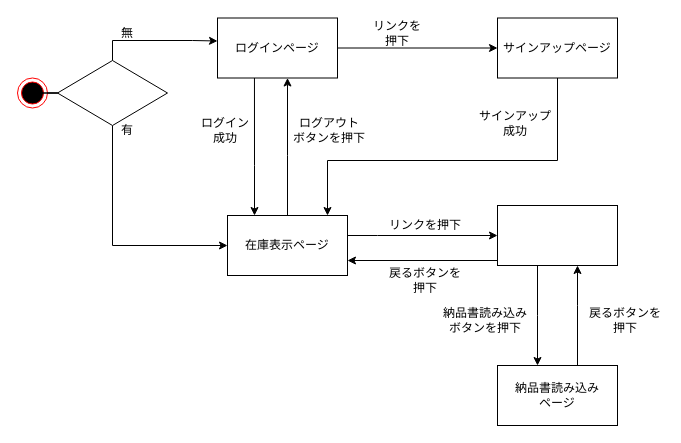
This 681x443 diagram has some shape labels left out. Each missing label, with the centre of its shape:
"セッションの有無" goes at pixel 112 93.
"管理者メニュー" goes at pixel 557 235.
